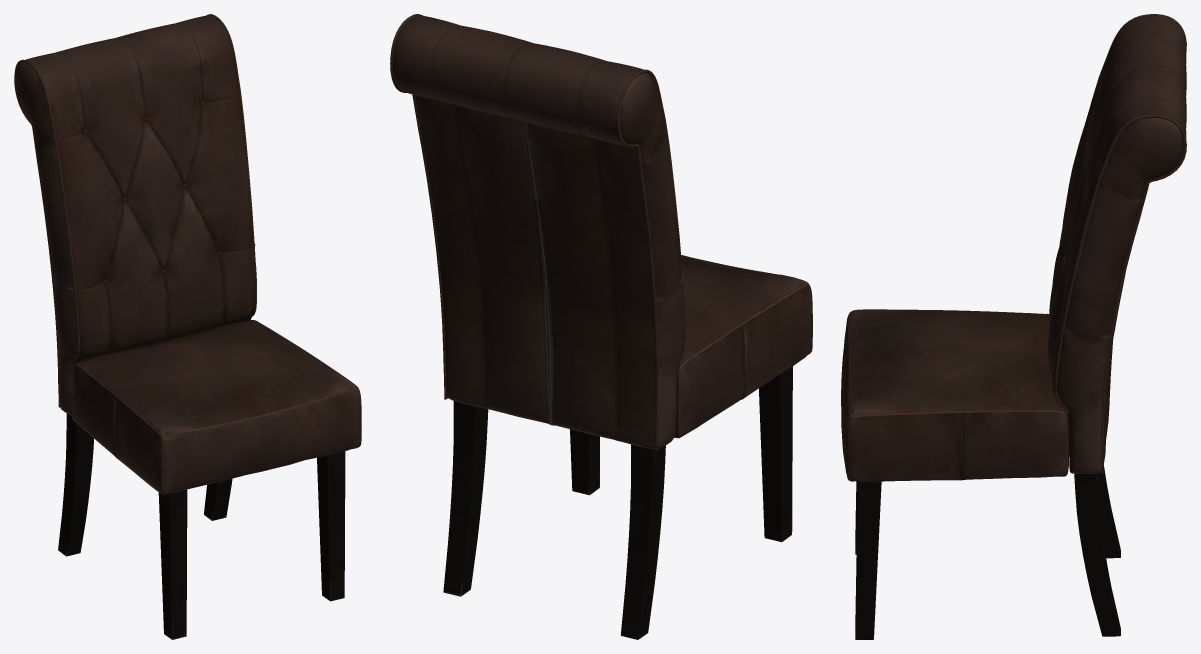
Rendered from dining_chair_02.glb.
3 views of the same model, side by side, from view 1: azimuth 30°, elevation 25°; view 2: azimuth 150°, elevation 25°; view 3: azimuth 270°, elevation 25° (orthographic). The views are drawn at different scales.
Parts seen in each view (by area): view 1: dining_chair_02; view 2: dining_chair_02; view 3: dining_chair_02.
Part boxes in pixels (x1,y1,x2,y2): dining_chair_02: (14,14,361,639); dining_chair_02: (390,14,812,639); dining_chair_02: (841,14,1186,639).
Size of the model in its own units: 0.4336 by 0.9734 by 0.5765.
1 material, 1 textured.
